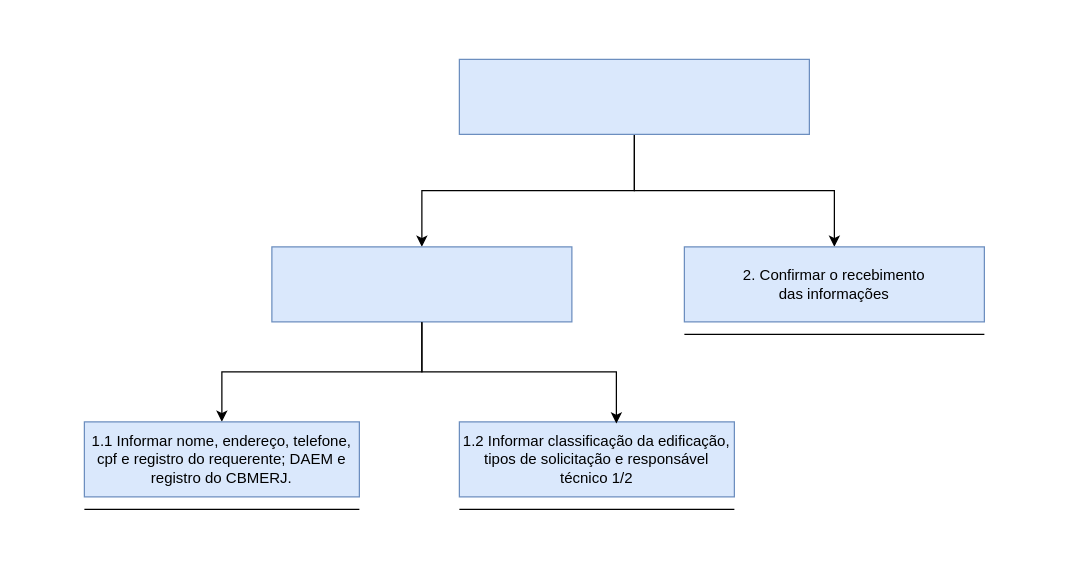
Image size: 1080x580. Some labels were removed from this diagram. Here are the shapes that lost their labels. From the top down, the box of each, then its label:
(458, 58, 809, 134): 0. Solicitar requerimento padrão 1>2
(271, 246, 572, 322): 1. Informar dados do requerente e da edificação 1+2
